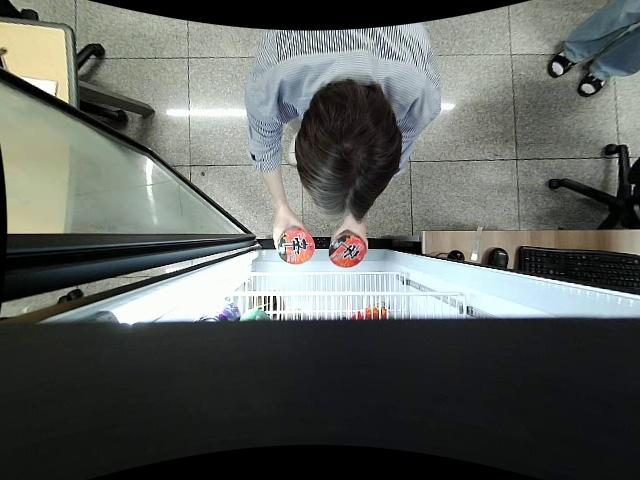00_hand: (331, 221, 370, 254), (272, 211, 304, 249)
01_shinRamen_L: (278, 229, 314, 265), (328, 232, 366, 266)
